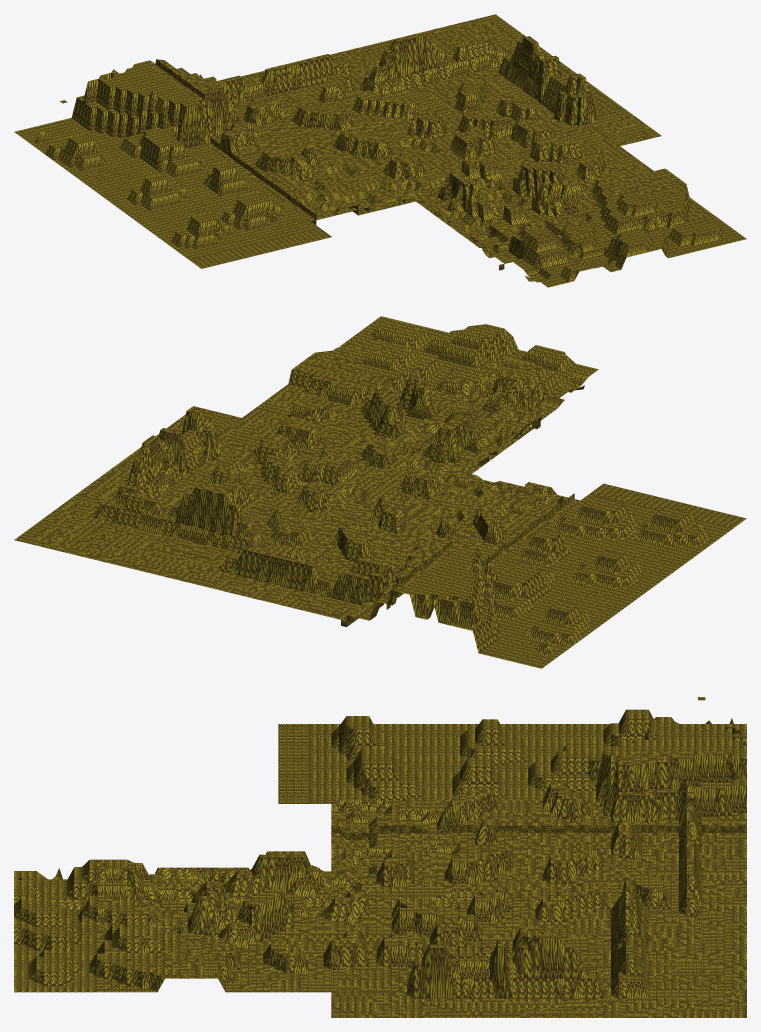
File: FuckingHillls.obj
3 views of the same model, one above another, from view 1: azimuth 30°, elevation 25°; view 2: azimuth 150°, elevation 25°; view 3: azimuth 270°, elevation 25° (orthographic). The views are drawn at different scales.
Visible parts, largest first — view 1: Default; view 2: Default; view 3: Default.
Part boxes in pixels (left/top/right/bottom): Default: left=14, top=14, right=746, bottom=287; Default: left=14, top=316, right=746, bottom=668; Default: left=14, top=697, right=746, bottom=1017.
Size of the model in its own units: 92 by 18 by 97.
2 materials, 2 textured.
